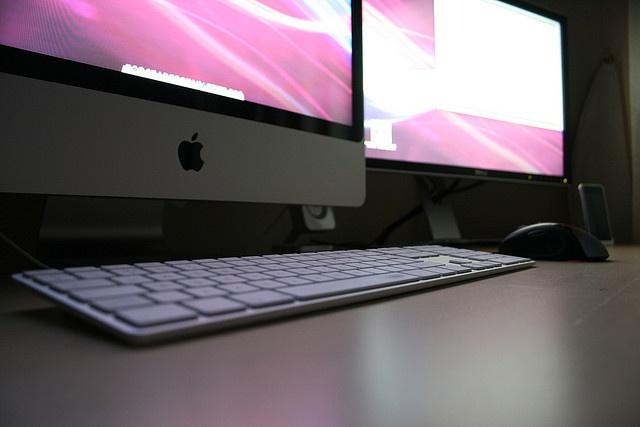AIO PC-Monitor-TV: (0, 0, 365, 208), (363, 0, 571, 186)
